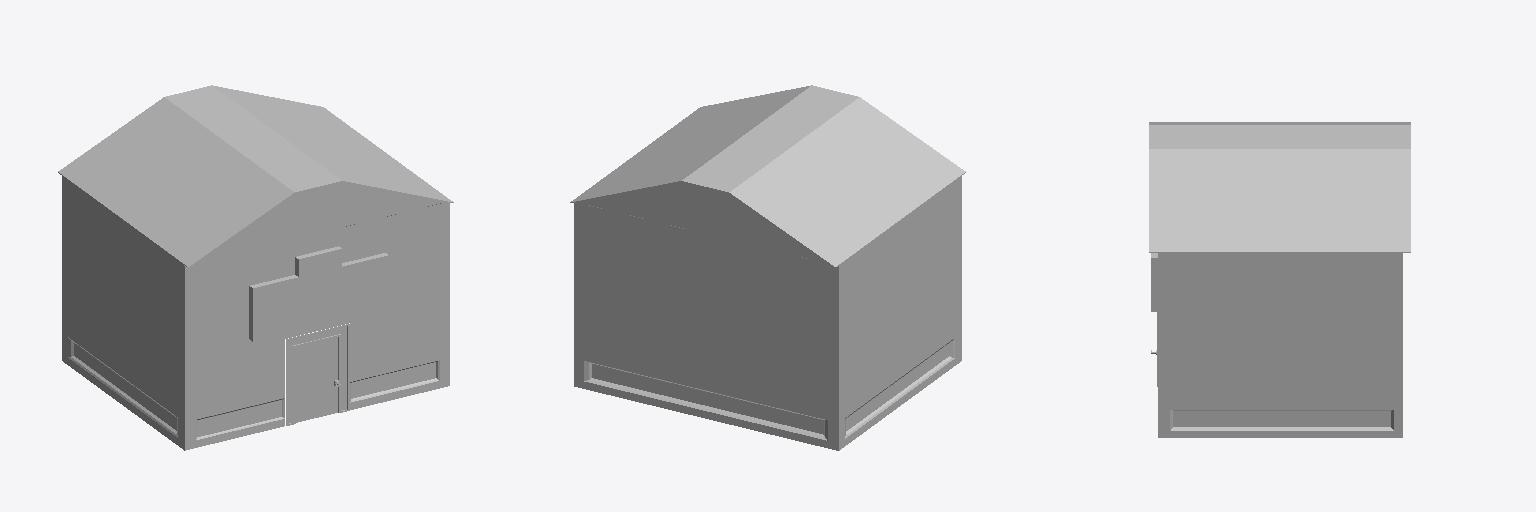
Rendered from Bar Storefront.obj.
3 renders of one model, left to right at view 1: azimuth 30°, elevation 25°; view 2: azimuth 150°, elevation 25°; view 3: azimuth 270°, elevation 25°, orthographic.
Visible parts, largest first — view 1: polySurface5, Roof, Door_Sign_and_Designs; view 2: polySurface5, Roof, Door_Sign_and_Designs; view 3: polySurface5, Roof, Door_Sign_and_Designs.
Boxes of the visible parts, x1=… form: polySurface5: x1=62, y1=177, x2=449, y2=450; Roof: x1=58, y1=85, x2=453, y2=267; Door_Sign_and_Designs: x1=68, y1=246, x2=439, y2=439; polySurface5: x1=574, y1=177, x2=961, y2=450; Roof: x1=570, y1=85, x2=965, y2=267; Door_Sign_and_Designs: x1=584, y1=256, x2=954, y2=440; polySurface5: x1=1158, y1=254, x2=1402, y2=437; Roof: x1=1149, y1=122, x2=1410, y2=253; Door_Sign_and_Designs: x1=1151, y1=253, x2=1393, y2=430.
Size of the model in its own units: 12.03 by 10.19 by 10.24.